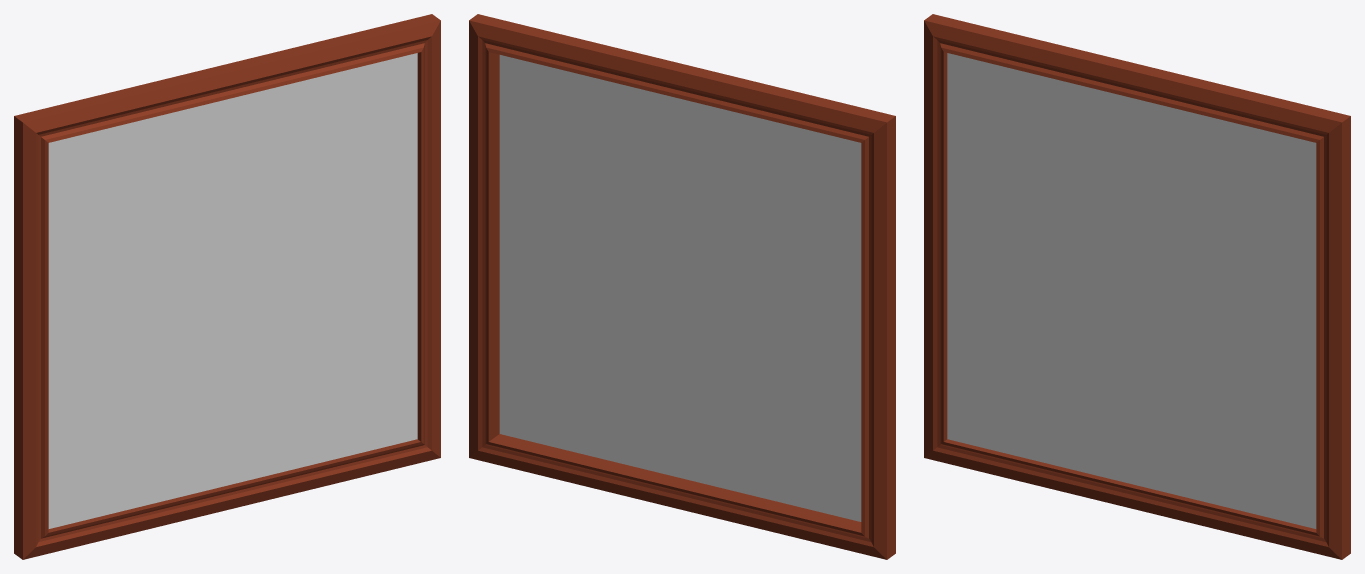
The model's file is cuadroVacio2.glb.
The picture shows the model from 3 angles, left to right: view 1: azimuth 30°, elevation 25°; view 2: azimuth 150°, elevation 25°; view 3: azimuth 330°, elevation 25°; orthographic projection.
Visible parts, largest first — view 1: capa1_2, Plane.004, Plane.001; view 2: capa1_1, Plane.001, Plane.004; view 3: capa1_2, Plane.004, Plane.001.
Part boxes in pixels (<box>): capa1_2: <box>48,53,417,528</box>; Plane.004: <box>17,16,440,559</box>; Plane.001: <box>14,14,434,557</box>; capa1_1: <box>499,55,861,521</box>; Plane.001: <box>469,18,892,559</box>; Plane.004: <box>473,14,895,555</box>; capa1_2: <box>947,53,1316,528</box>; Plane.004: <box>924,18,1347,559</box>; Plane.001: <box>928,14,1350,555</box>.
Bounding box in the file's own units: 2.54 × 2.54 × 0.1566.
